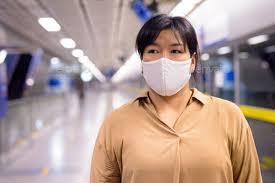with-mask: (136, 11, 201, 99)
